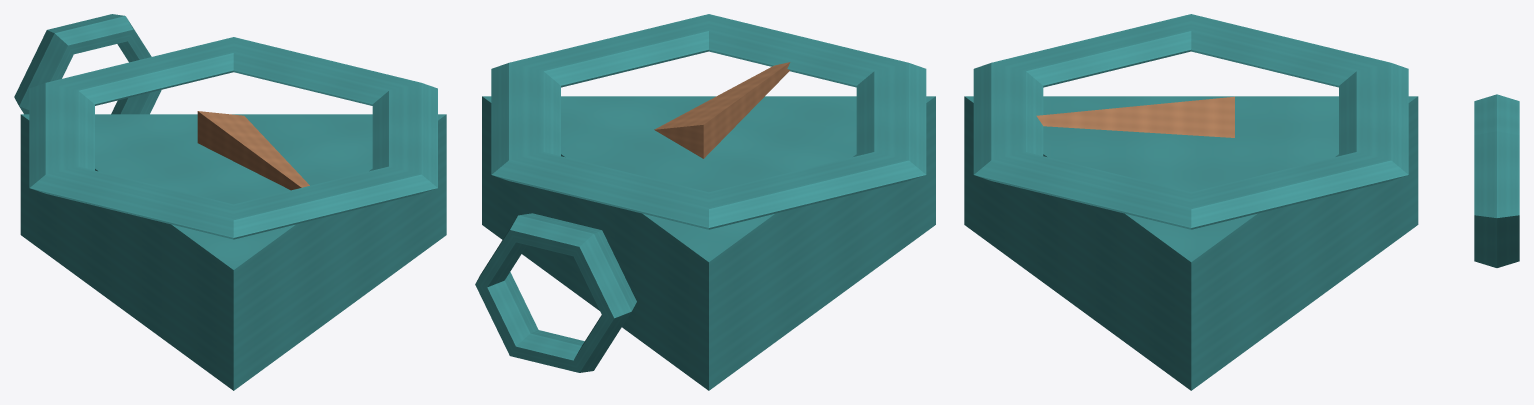
File: atlas100-s099-a05.lod2.glb
3 renders of one model, left to right at view 1: azimuth 30°, elevation 25°; view 2: azimuth 150°, elevation 25°; view 3: azimuth 270°, elevation 25°, orthographic. The views are drawn at different scales.
Parts seen in each view (by area): view 1: atlas100-s099-a05:part-000, atlas100-s099-a05:part-003, atlas100-s099-a05:part-004, atlas100-s099-a05:part-002; view 2: atlas100-s099-a05:part-000, atlas100-s099-a05:part-003, atlas100-s099-a05:part-004, atlas100-s099-a05:part-002; view 3: atlas100-s099-a05:part-000, atlas100-s099-a05:part-003, atlas100-s099-a05:part-004, atlas100-s099-a05:part-002.
Part boxes in pixels (<box>): atlas100-s099-a05:part-000: <box>20,114,446,390</box>; atlas100-s099-a05:part-003: <box>29,37,437,239</box>; atlas100-s099-a05:part-004: <box>14,14,161,114</box>; atlas100-s099-a05:part-002: <box>197,111,309,190</box>; atlas100-s099-a05:part-000: <box>482,96,935,390</box>; atlas100-s099-a05:part-003: <box>491,14,926,229</box>; atlas100-s099-a05:part-004: <box>475,213,636,372</box>; atlas100-s099-a05:part-002: <box>654,62,790,158</box>; atlas100-s099-a05:part-000: <box>964,96,1418,390</box>; atlas100-s099-a05:part-003: <box>973,14,1408,229</box>; atlas100-s099-a05:part-004: <box>1474,94,1519,267</box>; atlas100-s099-a05:part-002: <box>1036,96,1234,137</box>.
Bounding box in the file's own units: 0.5132 × 0.1936 × 0.5554.
Materials: 2 (2 with a texture image).
